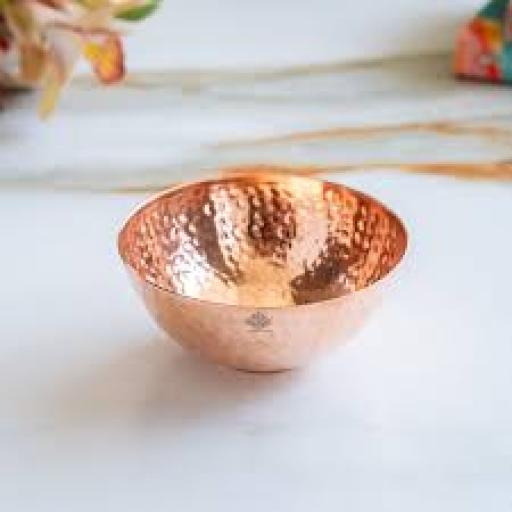Bowl: (118, 166, 405, 371)
